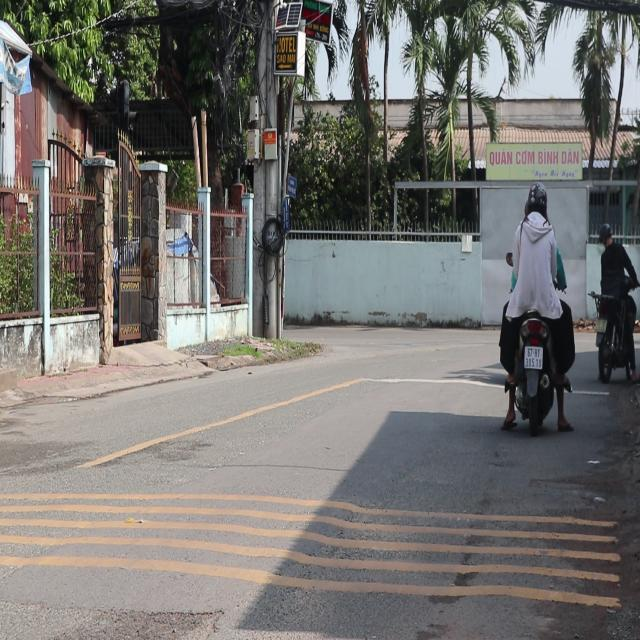helmet: (527, 180, 548, 217)
licenseplate: (496, 178, 576, 434)
nohelmet: (524, 345, 542, 368)
